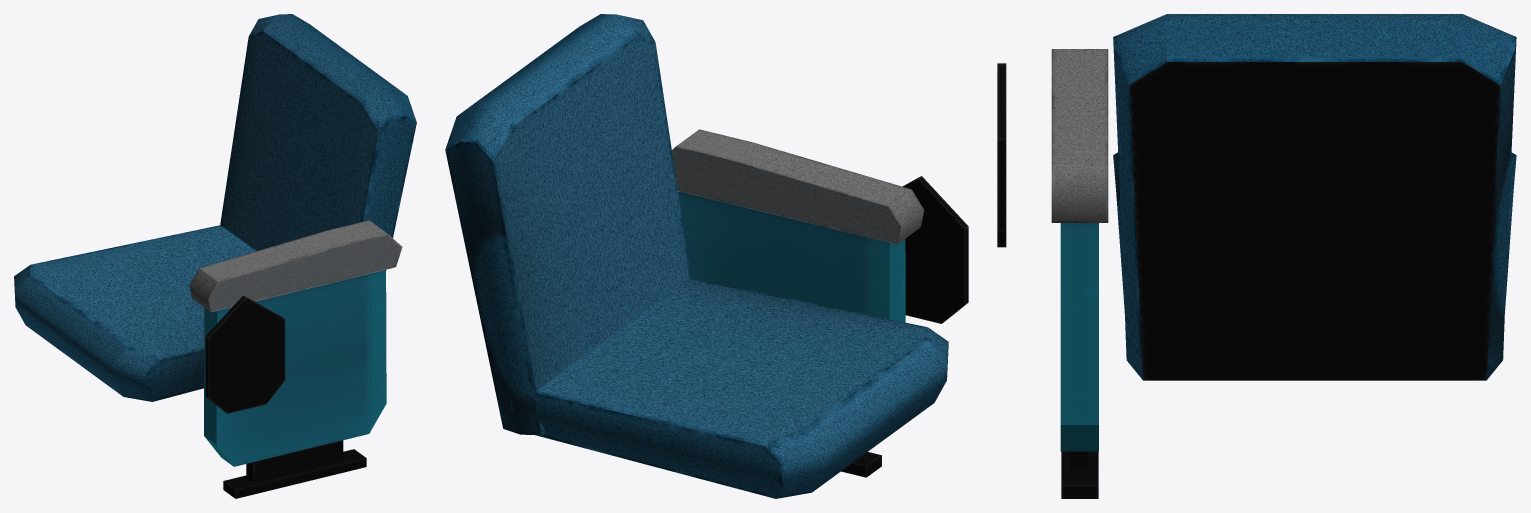
The model's file is Silla-Teatro-Tamaño.fbx.
3 views of the same model, side by side, from view 1: azimuth 30°, elevation 25°; view 2: azimuth 150°, elevation 25°; view 3: azimuth 270°, elevation 25° (orthographic). The views are drawn at different scales.
Visible parts, largest first — view 1: Cojin02, BaseSilla, Cojin01, ApollaBrazos, Mesa_Silla; view 2: Cojin02, Cojin01, BaseSilla, ApollaBrazos, Mesa_Silla; view 3: Cojin02, BaseSilla, ApollaBrazos, Mesa_Silla, Cojin01.
Boxes of the visible parts, x1=… form: Cojin02: x1=220, y1=14, x2=416, y2=270; BaseSilla: x1=204, y1=270, x2=386, y2=498; Cojin01: x1=14, y1=225, x2=256, y2=401; ApollaBrazos: x1=189, y1=220, x2=402, y2=312; Mesa_Silla: x1=205, y1=295, x2=285, y2=413; Cojin02: x1=445, y1=14, x2=690, y2=435; Cojin01: x1=511, y1=278, x2=948, y2=498; BaseSilla: x1=678, y1=191, x2=905, y2=477; ApollaBrazos: x1=672, y1=129, x2=924, y2=244; Mesa_Silla: x1=903, y1=176, x2=968, y2=323; Cojin02: x1=1113, y1=14, x2=1516, y2=380; BaseSilla: x1=1060, y1=223, x2=1098, y2=498; ApollaBrazos: x1=1051, y1=49, x2=1108, y2=222; Mesa_Silla: x1=997, y1=63, x2=1006, y2=247; Cojin01: x1=1113, y1=152, x2=1516, y2=342.
Size of the model in its own units: 14.67 by 16.39 by 14.86.
